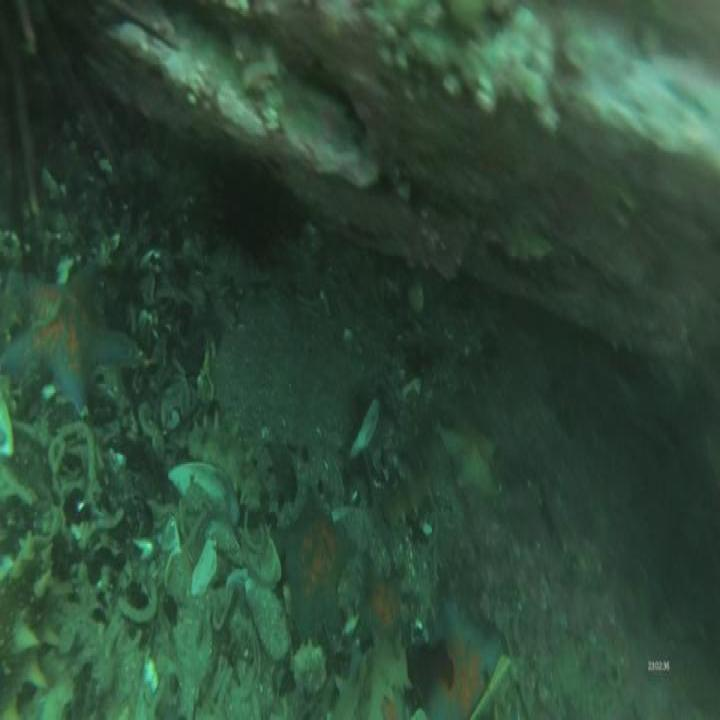echinus: (222, 180, 270, 260)
scallop: (262, 532, 281, 586)
starfish: (8, 270, 133, 406), (280, 494, 353, 633), (433, 597, 501, 720), (444, 411, 499, 496), (362, 556, 405, 644)
